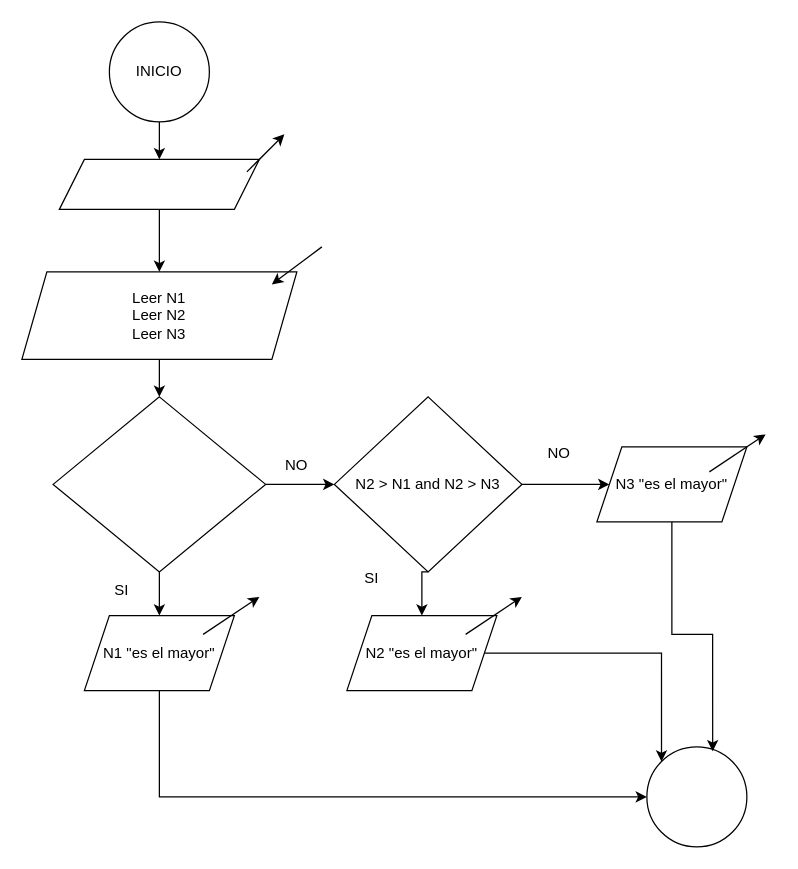
Some shapes in this 798 by 869 pixel diagram are drawn without their labels. Here are the shapes that lost their labels. From the top down, the box of each, then its label:
(58, 158, 259, 209): "Ingresa 3 números diferentes"
(52, 396, 266, 572): N1 > N2 and N1 > N3
(646, 746, 747, 847): FIN
